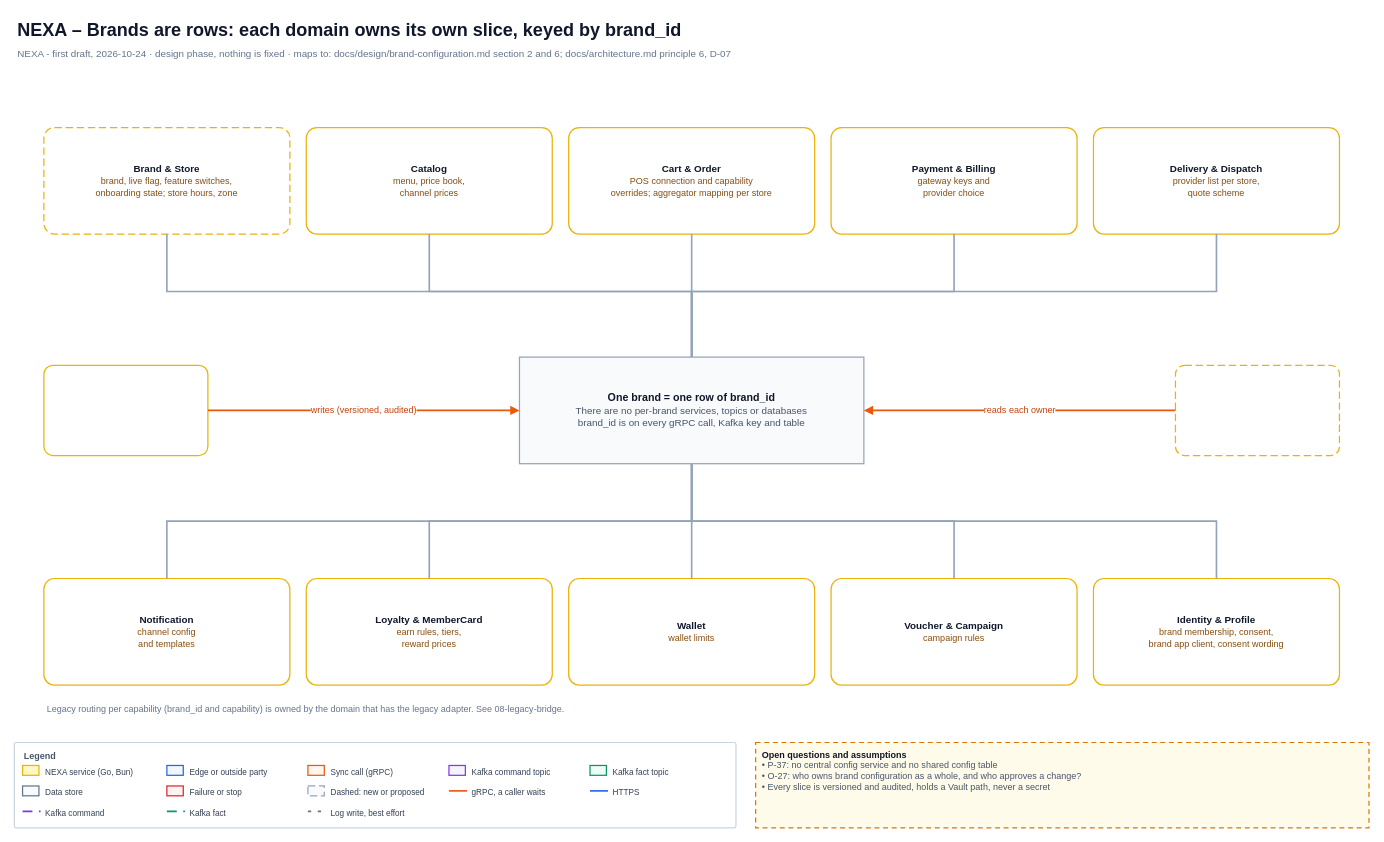
The diagram is 1384 pixels wide and 842 high, and some of its shapes have lost their labels. Here are the shapes that lost their labels. From the top down, the centre of each, then its label:
At point 125,410: "admin-bff every configuration write goes through here, with a grant".
At point 1257,410: "Readiness check proposed: reads each owner before the live flag".
